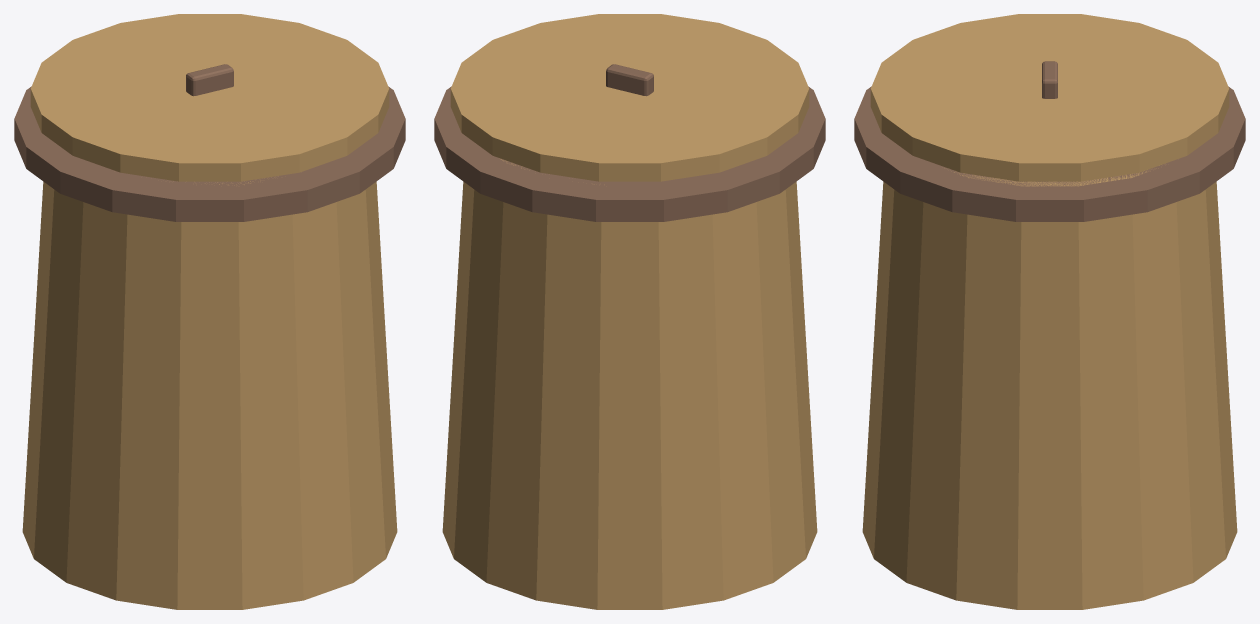
File: hh_laundry_basket.glb
The picture shows the model from 3 angles, left to right: view 1: azimuth 30°, elevation 25°; view 2: azimuth 150°, elevation 25°; view 3: azimuth 270°, elevation 25°; orthographic projection.
Parts seen in each view (by area): view 1: basket, lid, rim, knob; view 2: basket, lid, rim, knob; view 3: basket, lid, rim, knob.
Part boxes in pixels (bbox=[...]): basket: bbox=[22, 176, 397, 609]; lid: bbox=[30, 14, 389, 181]; rim: bbox=[14, 86, 405, 221]; knob: bbox=[186, 64, 233, 96]; basket: bbox=[442, 159, 817, 609]; lid: bbox=[450, 14, 809, 181]; rim: bbox=[434, 86, 825, 221]; knob: bbox=[606, 64, 653, 96]; basket: bbox=[862, 165, 1237, 609]; lid: bbox=[870, 14, 1229, 181]; rim: bbox=[854, 86, 1245, 221]; knob: bbox=[1042, 61, 1057, 98].
Size of the model in its own units: 0.4727 by 0.625 by 0.48.
